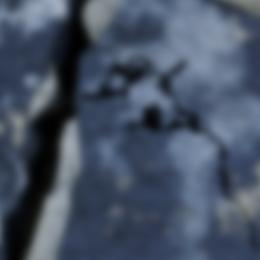brick: (76, 0, 259, 250), (58, 75, 259, 259), (0, 0, 67, 219), (0, 228, 2, 259)
crack: (0, 0, 259, 259)
